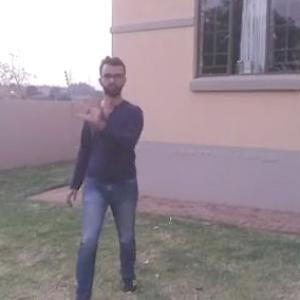follow_hand: (79, 87, 108, 122)
